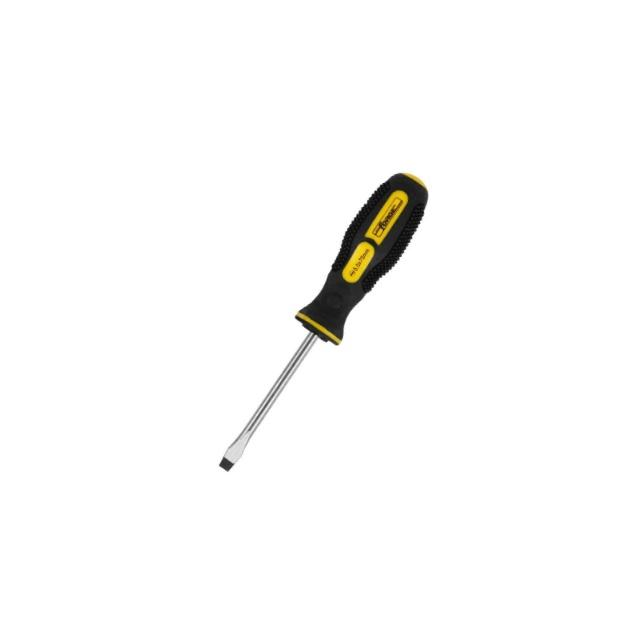screwdriver: (162, 163, 479, 475)
